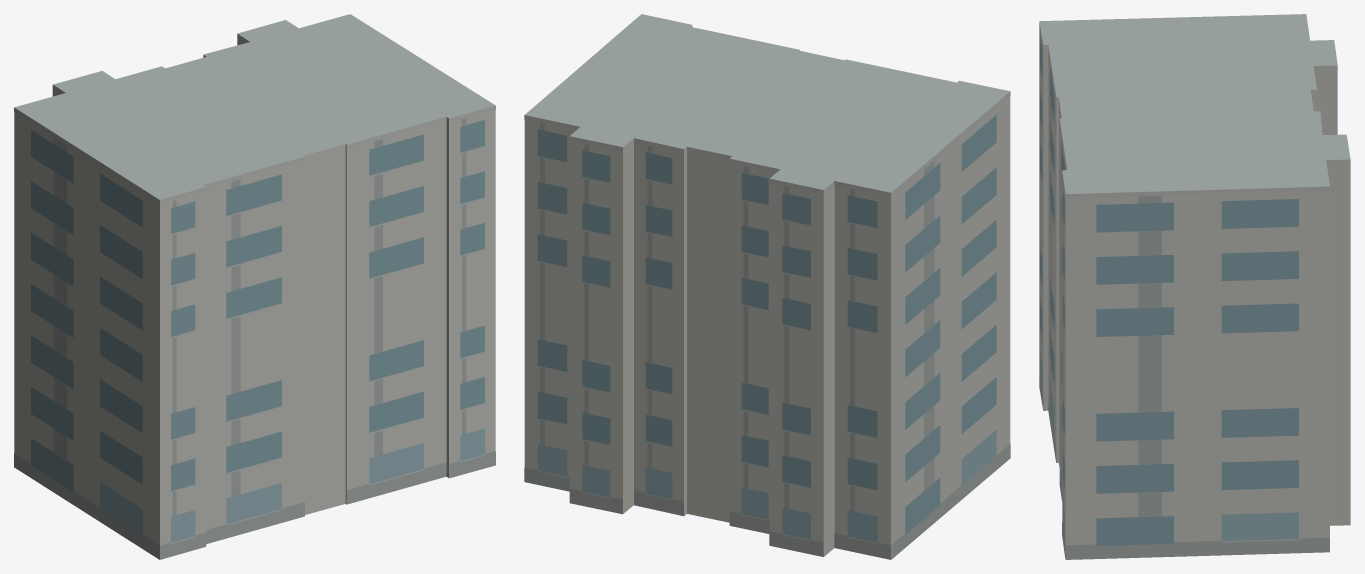
The model's file is survey-upis-32669301.glb.
3 views of the same model, side by side, from view 1: azimuth 30°, elevation 25°; view 2: azimuth 150°, elevation 25°; view 3: azimuth 270°, elevation 25° (orthographic).
Visible parts, largest first — view 1: survey-upis-32669301.tmp; view 2: survey-upis-32669301.tmp; view 3: survey-upis-32669301.tmp.
Part boxes in pixels (left/top/right/bottom): survey-upis-32669301.tmp: left=14, top=14, right=495, bottom=559; survey-upis-32669301.tmp: left=524, top=14, right=1010, bottom=559; survey-upis-32669301.tmp: left=1039, top=14, right=1350, bottom=559.
Size of the model in its own units: 20.87 by 19.75 by 15.24.
